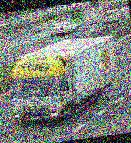truck: (4, 34, 123, 129)
